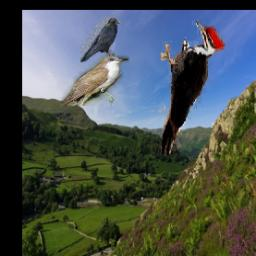Crow: (79, 17, 121, 62)
Cuckoo: (61, 56, 129, 107)
Woodpecker: (161, 19, 226, 156)
